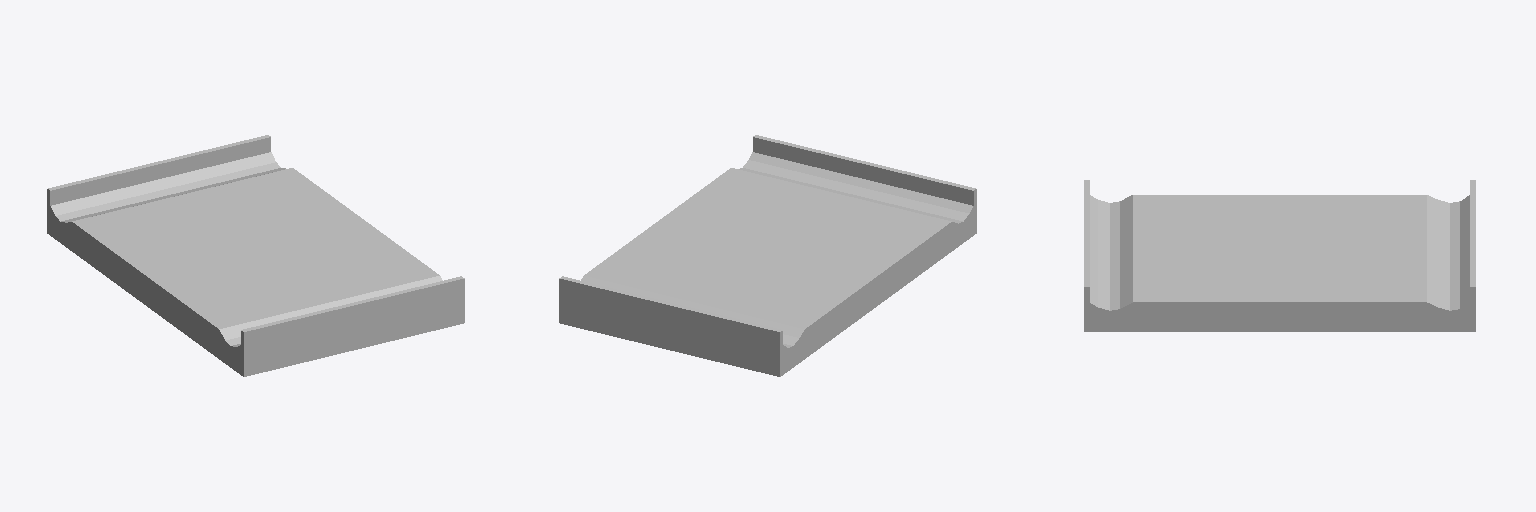
The picture shows the model from 3 angles: view 1: azimuth 30°, elevation 25°; view 2: azimuth 150°, elevation 25°; view 3: azimuth 270°, elevation 25°; orthographic projection.
Parts seen in each view (by area): view 1: group[number redacted]; view 2: group[number redacted]; view 3: group[number redacted].
Boxes of the visible parts, x1=… form: group[number redacted]: x1=47, y1=135, x2=464, y2=376; group[number redacted]: x1=559, y1=135, x2=976, y2=376; group[number redacted]: x1=1084, y1=180, x2=1475, y2=331.
Bounding box in the file's own units: 1.39 × 0.27 × 2.14.